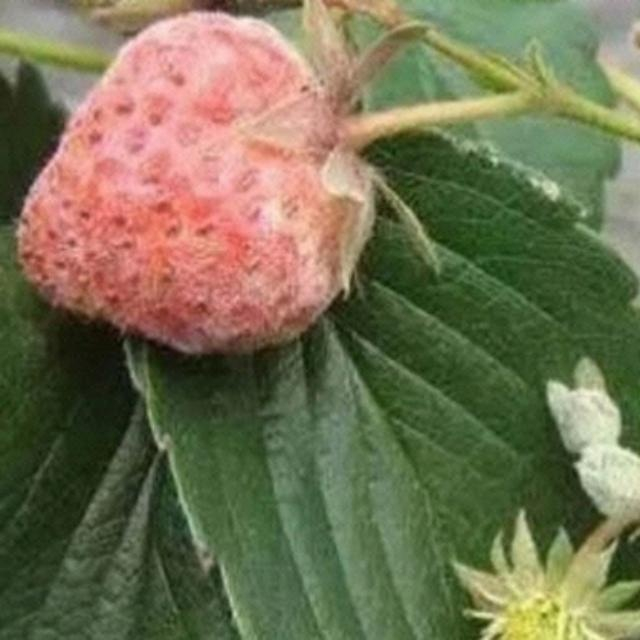Powdery Mildew Fruit: (15, 1, 397, 357)
